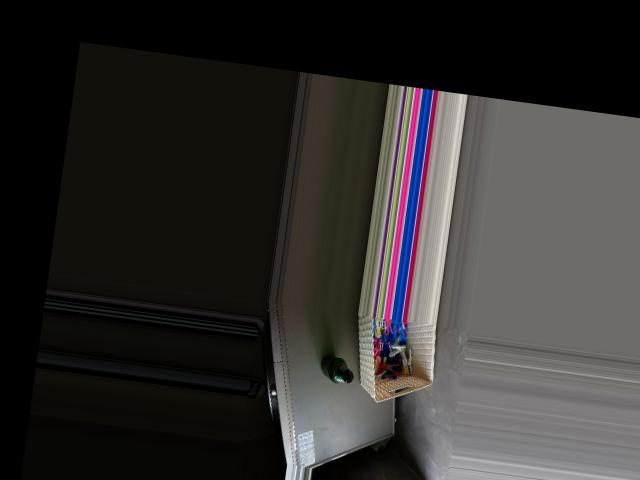beer: (318, 354, 355, 383)
